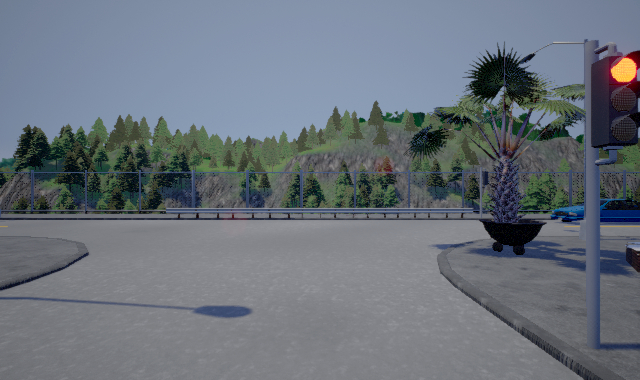traffic_light: (590, 50, 640, 148)
vehicle: (550, 198, 640, 222)
